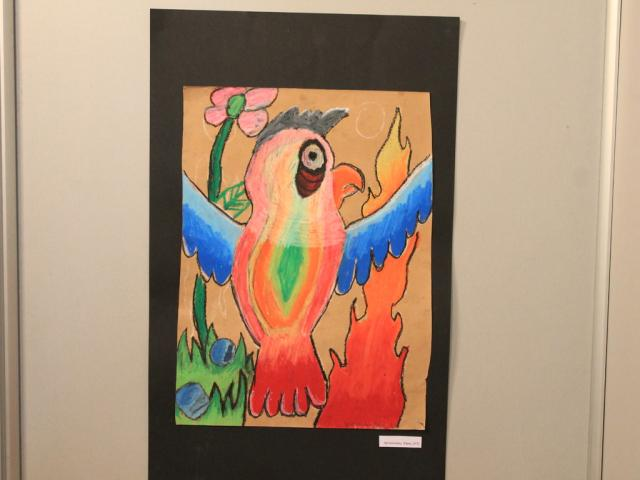Bird: (180, 101, 438, 422)
